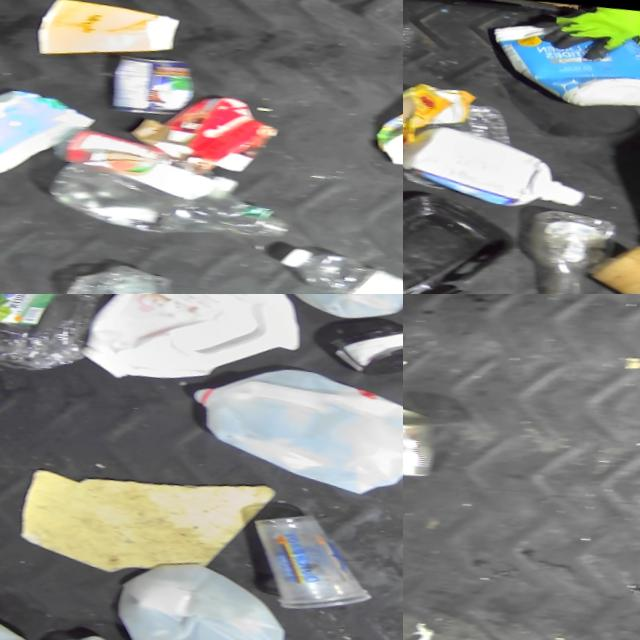can: (93, 44, 203, 127), (403, 396, 453, 488), (582, 237, 640, 294)
milk_jug: (184, 355, 403, 511), (71, 294, 313, 405), (99, 549, 296, 640), (278, 294, 403, 333)
plastic_bottle: (268, 240, 403, 294)
